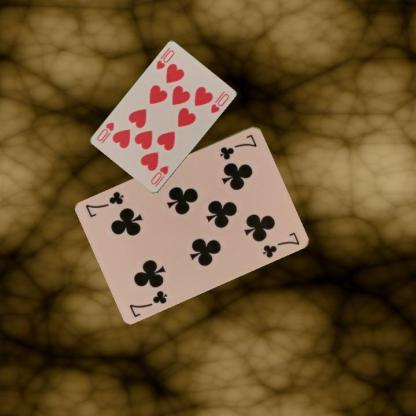10h: (148, 164, 170, 188), (154, 47, 176, 71)
7c: (127, 288, 168, 318), (218, 131, 258, 161)
